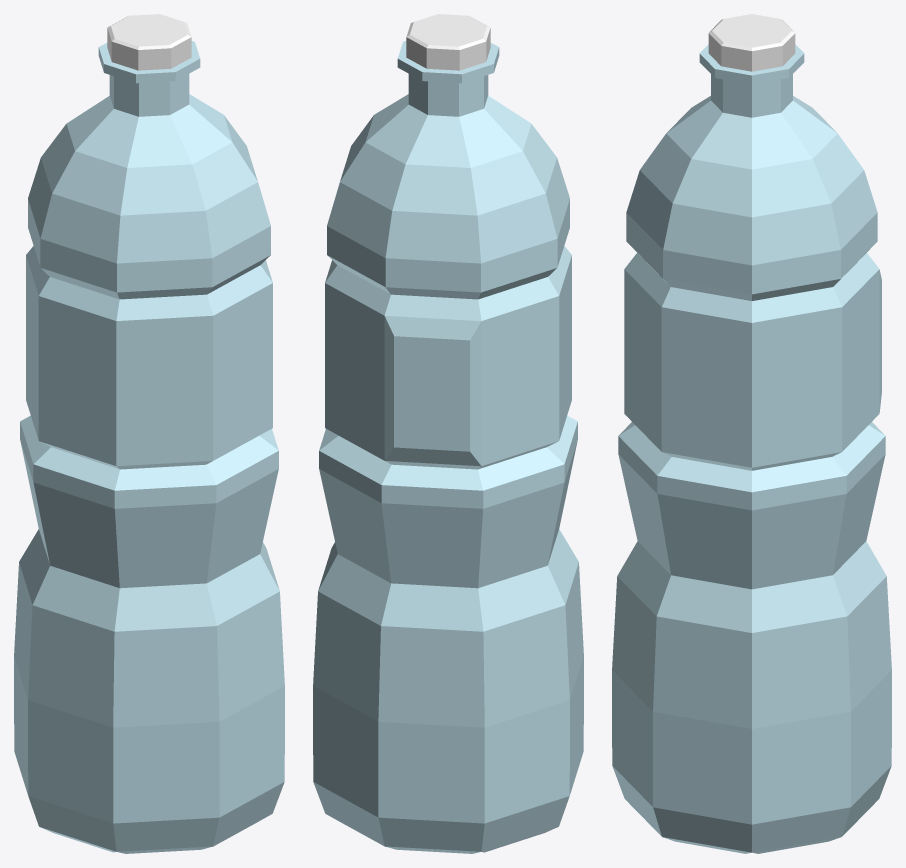
The model's file is Water bottle.glb.
The picture shows the model from 3 angles, left to right: view 1: azimuth 30°, elevation 25°; view 2: azimuth 150°, elevation 25°; view 3: azimuth 270°, elevation 25°; orthographic projection.
Parts seen in each view (by area): view 1: Node; view 2: Node; view 3: Node.
Boxes of the visible parts, left/top/right/bottom form: Node: left=14, top=14, right=284, bottom=853; Node: left=313, top=14, right=583, bottom=853; Node: left=612, top=14, right=891, bottom=853.
Bounding box in the file's own units: 1.63 × 4.97 × 1.63.
